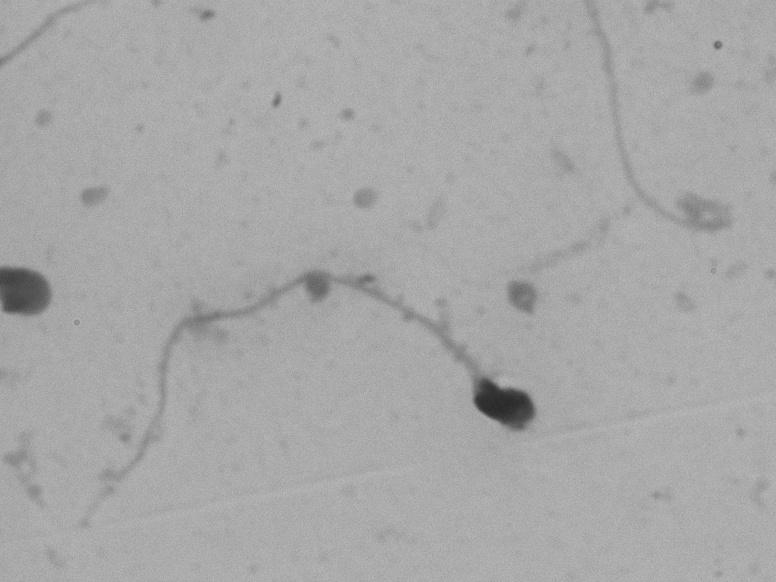Abnormal: (88, 233, 559, 529)
